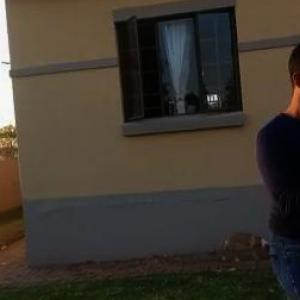follow: (250, 31, 300, 299)
null: (208, 226, 278, 266)
